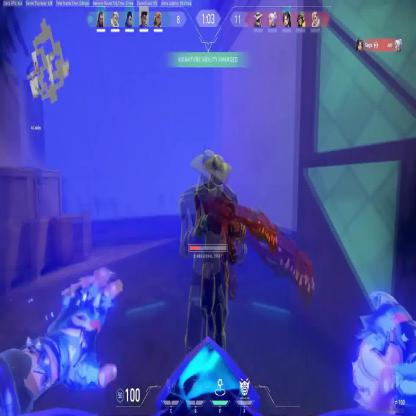enemy: (179, 150, 248, 416)
enemy_head: (200, 151, 228, 196)
